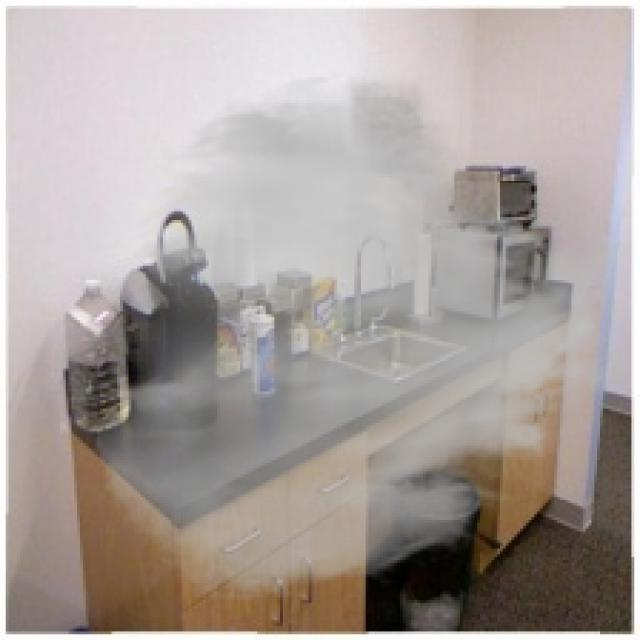Smoke: (91, 69, 634, 606)
